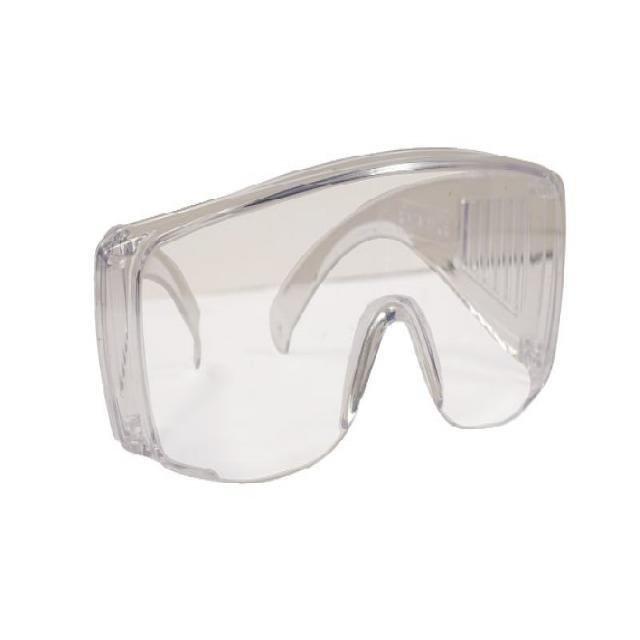Goggles: (91, 132, 576, 497)
